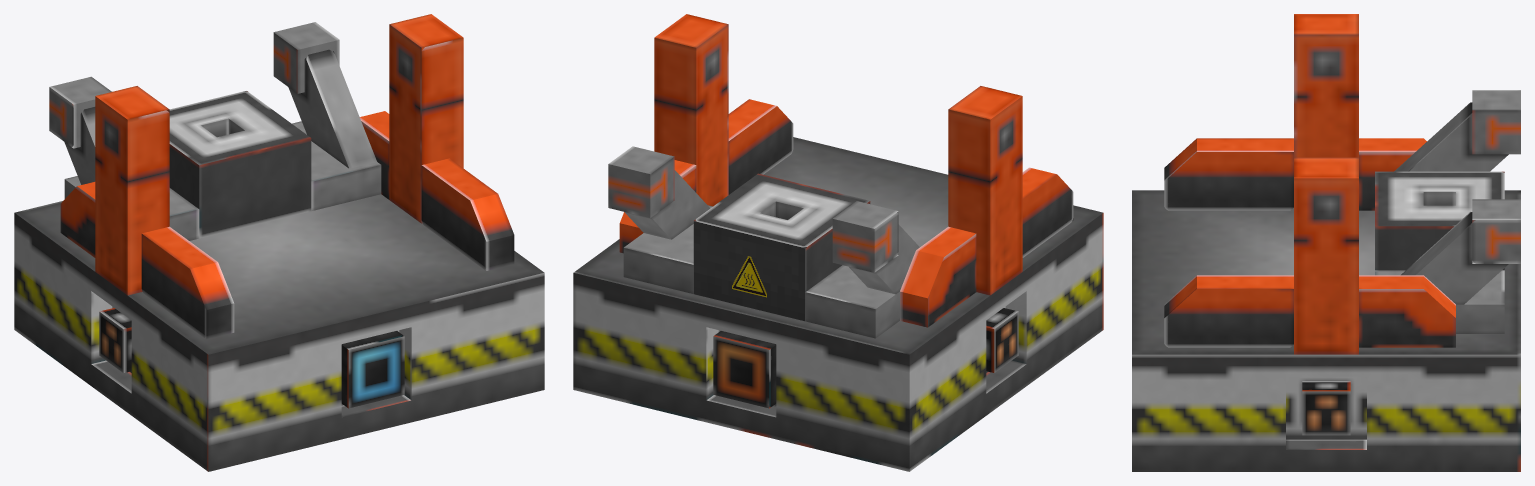
File: cating_machine.obj
3 views of the same model, side by side, from view 1: azimuth 30°, elevation 25°; view 2: azimuth 150°, elevation 25°; view 3: azimuth 270°, elevation 25° (orthographic).
Visible parts, largest first — view 1: cube.base_cube.059, cube.020, cube.050; view 2: cube.base_cube.059, cube.020, cube.050; view 3: cube.base_cube.059, cube.020, cube.050.
Part boxes in pixels (x1,y1,x2,y2): cube.base_cube.059: [14, 194, 544, 471]; cube.020: [49, 14, 514, 339]; cube.050: [169, 91, 311, 238]; cube.base_cube.059: [573, 137, 1103, 471]; cube.020: [608, 14, 1073, 338]; cube.050: [693, 173, 870, 321]; cube.base_cube.059: [1132, 190, 1520, 471]; cube.020: [1164, 14, 1520, 354]; cube.050: [1375, 171, 1504, 270].
Bounding box in the file's own units: 3 × 2.5 × 3.
